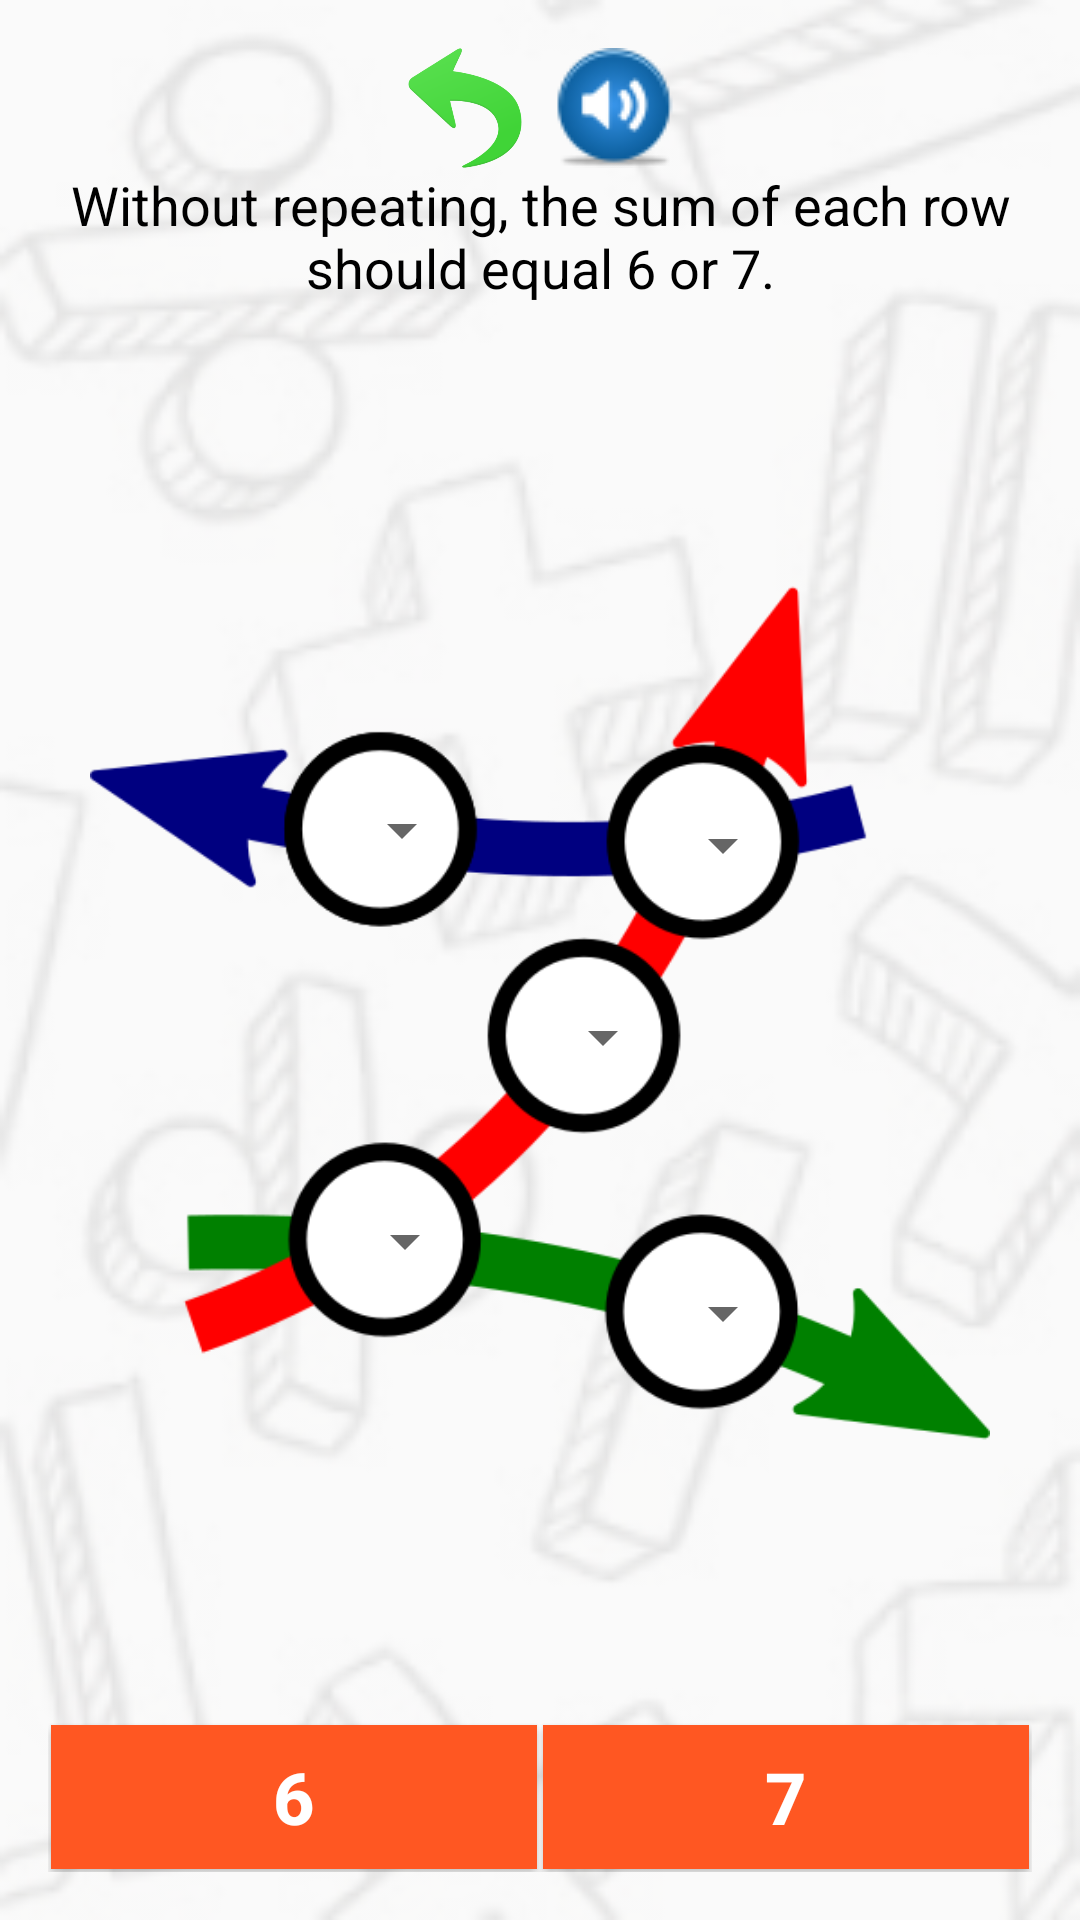

Screen size 1080*1920. Icon name, then its center in pixels as point (x, y):
som: point (614, 107)
voltar: point (465, 108)
